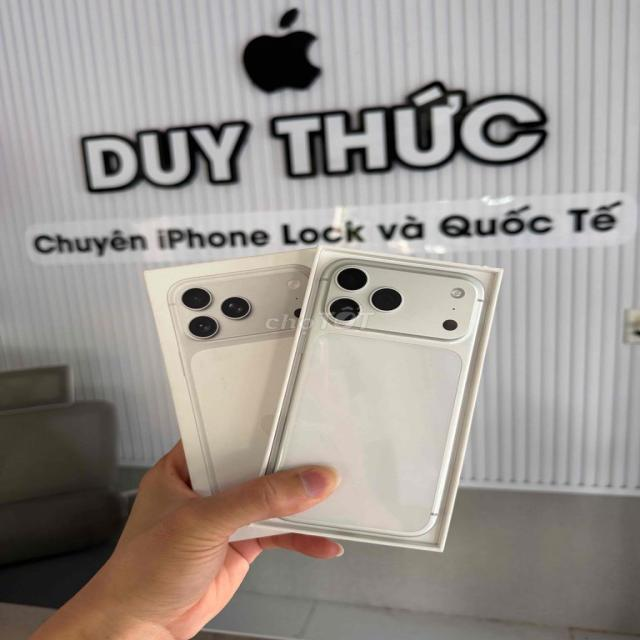gen_17: (258, 248, 492, 545)
